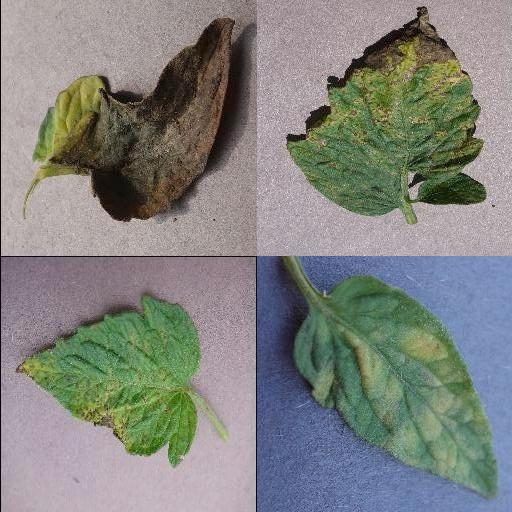Late Blight: (34, 15, 236, 223)
Leaf Mold: (292, 277, 498, 499)
Septoria: (286, 8, 488, 216), (15, 293, 199, 467)
